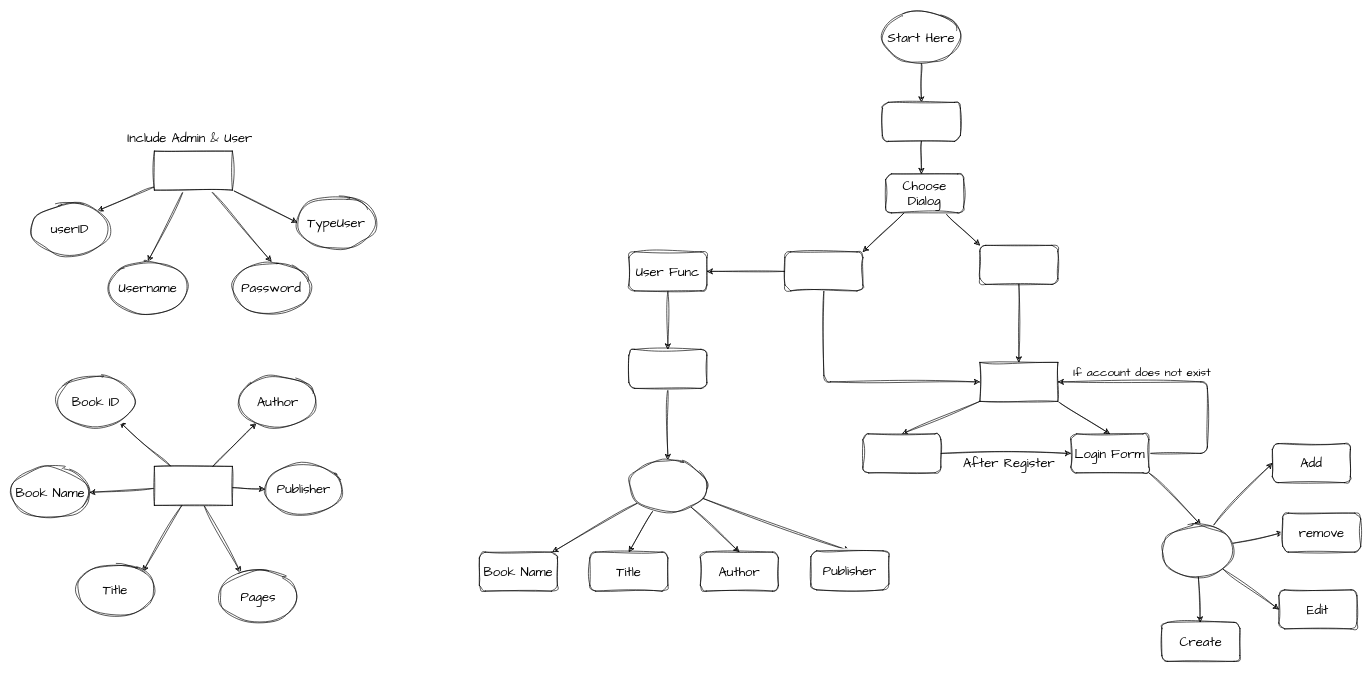
Image size: 1372x673. Some labels were removed from this diagram. The centre of each missing label's shape, as x and y in pixels:
Admin: (x=1018, y=264)
Admin Func: (x=1197, y=550)
Book: (x=193, y=485)
General User: (x=193, y=170)
Login Interface: (x=1018, y=381)
Read Infomation: (x=667, y=368)
Register Form: (x=901, y=453)
Search Method: (x=667, y=485)
User: (x=823, y=271)
Welcome Interface: (x=921, y=121)
